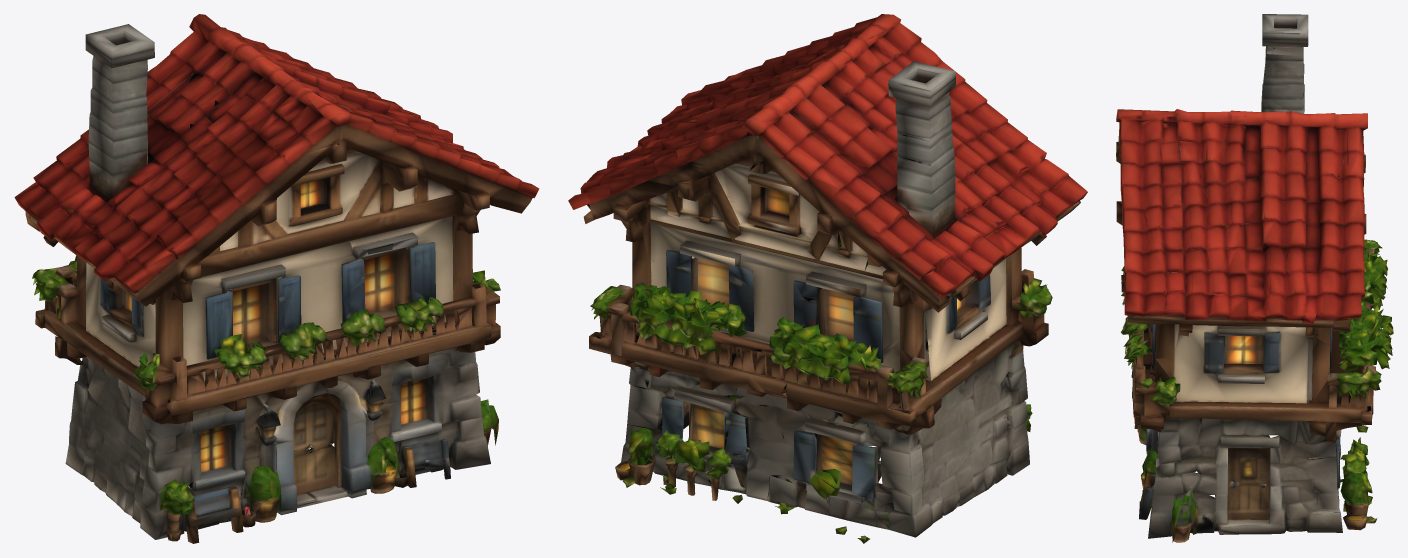
The picture shows the model from 3 angles, left to right: view 1: azimuth 30°, elevation 25°; view 2: azimuth 150°, elevation 25°; view 3: azimuth 270°, elevation 25°; orthographic projection. The views are drawn at different scales.
Visible parts, largest first — view 1: alpine__villa_2__neural_lod; view 2: alpine__villa_2__neural_lod; view 3: alpine__villa_2__neural_lod.
Part boxes in pixels (x1,y1,x2,y2): alpine__villa_2__neural_lod: (14, 14, 539, 543); alpine__villa_2__neural_lod: (568, 14, 1087, 543); alpine__villa_2__neural_lod: (1116, 14, 1393, 542).
Size of the model in its own units: 0.964 by 1 by 0.6418.
Materials: 1 (1 with a texture image).
